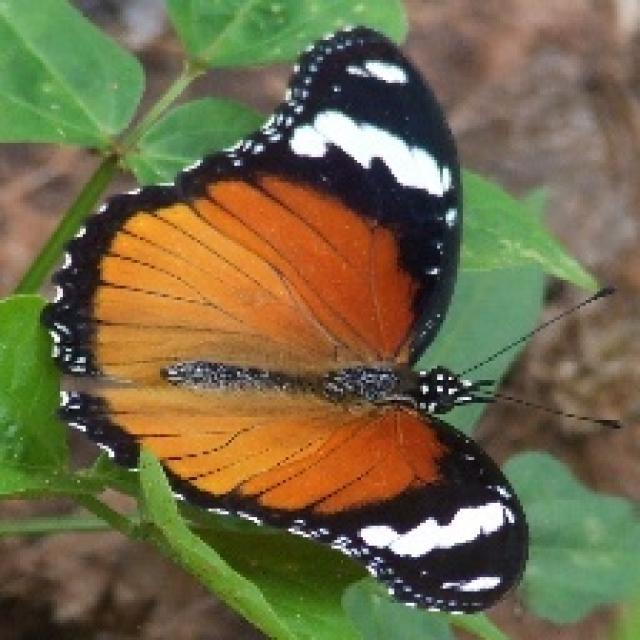butterfly: (37, 20, 623, 614)
